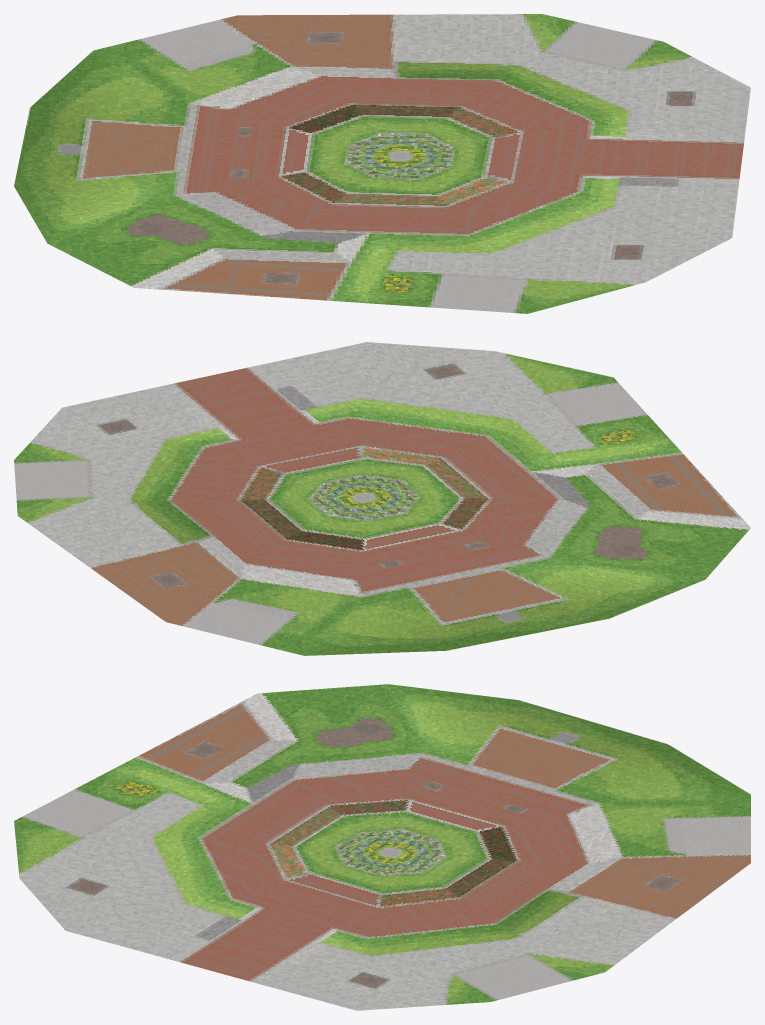
The model's file is kd_stage_1366d7_0_0_bounded.glb.
The picture shows the model from 3 angles, top to bottom: view 1: azimuth 30°, elevation 25°; view 2: azimuth 150°, elevation 25°; view 3: azimuth 270°, elevation 25°; orthographic projection. The views are drawn at different scales.
Parts seen in each view (by area): view 1: kd_stage_1366d7_0_0_bounded; view 2: kd_stage_1366d7_0_0_bounded; view 3: kd_stage_1366d7_0_0_bounded.
Boxes of the visible parts, x1,y1,x2,y2 form: kd_stage_1366d7_0_0_bounded: (14,14,750,313); kd_stage_1366d7_0_0_bounded: (14,342,750,655); kd_stage_1366d7_0_0_bounded: (14,684,750,1010).
Bounding box in the file's own units: 45.04 × 3.04e-06 × 42.94.
Materials: 1 (1 with a texture image).
